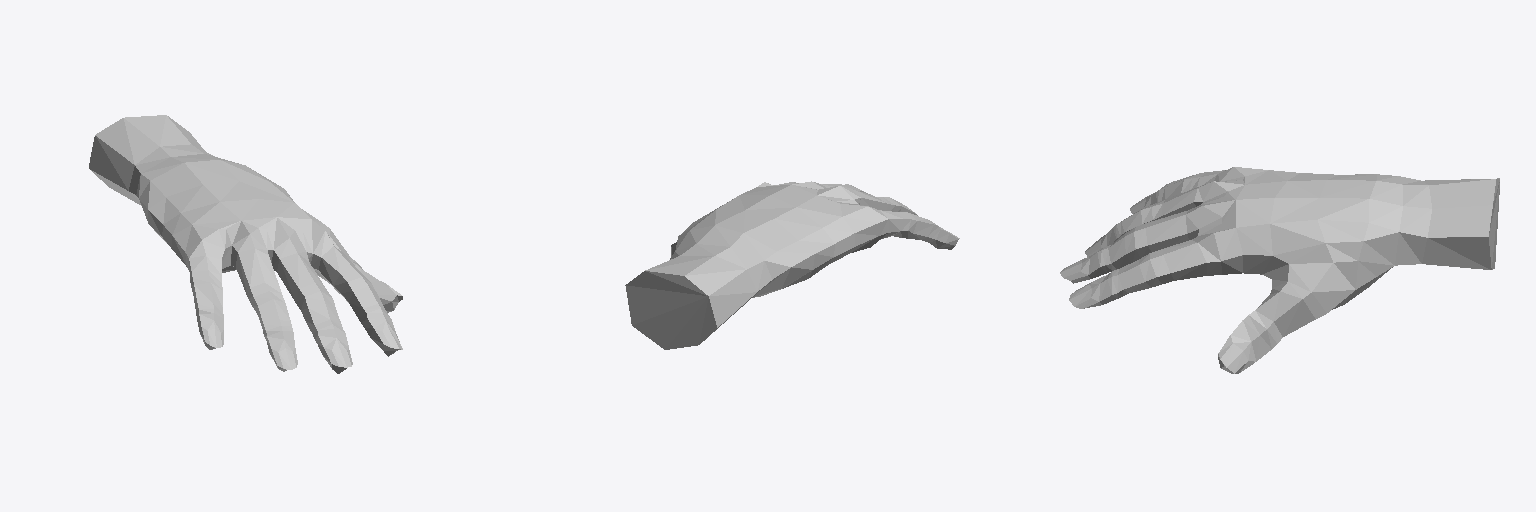
File: hand_right.obj
3 views of the same model, side by side, from view 1: azimuth 30°, elevation 25°; view 2: azimuth 150°, elevation 25°; view 3: azimuth 270°, elevation 25° (orthographic).
Visible parts, largest first — view 1: Plane005_Mesh; view 2: Plane005_Mesh; view 3: Plane005_Mesh.
Part boxes in pixels (x1,y1,x2,y2): Plane005_Mesh: (89,115,402,373); Plane005_Mesh: (625,181,959,349); Plane005_Mesh: (1060,167,1499,373).
Bounding box in the file's own units: 0.6644 × 0.3417 × 1.05.